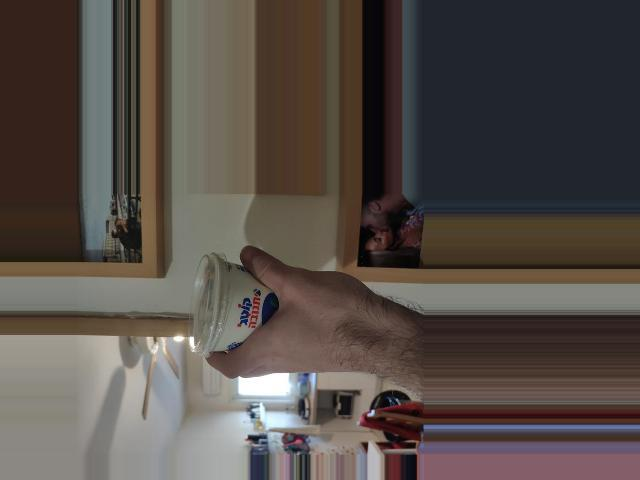cotage: (185, 257, 301, 364)
